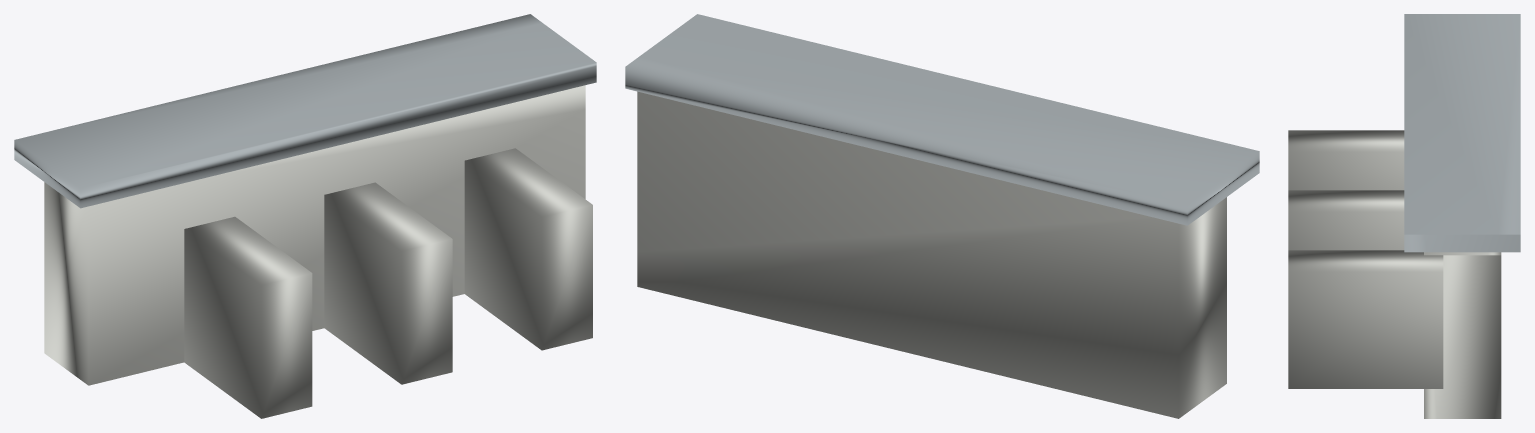
Rendered from alpine-2-11.glb.
The picture shows the model from 3 angles, left to right: view 1: azimuth 30°, elevation 25°; view 2: azimuth 150°, elevation 25°; view 3: azimuth 270°, elevation 25°; orthographic projection. The views are drawn at different scales.
Visible parts, largest first — view 1: alpine-2-11; view 2: alpine-2-11; view 3: alpine-2-11.
Boxes of the visible parts, x1,y1,x2,y2 form: alpine-2-11: [14, 14, 596, 418]; alpine-2-11: [625, 14, 1259, 418]; alpine-2-11: [1288, 14, 1520, 418].
Size of the model in its own units: 81 by 31.5 by 36.
Materials: 2 (2 with a texture image).
